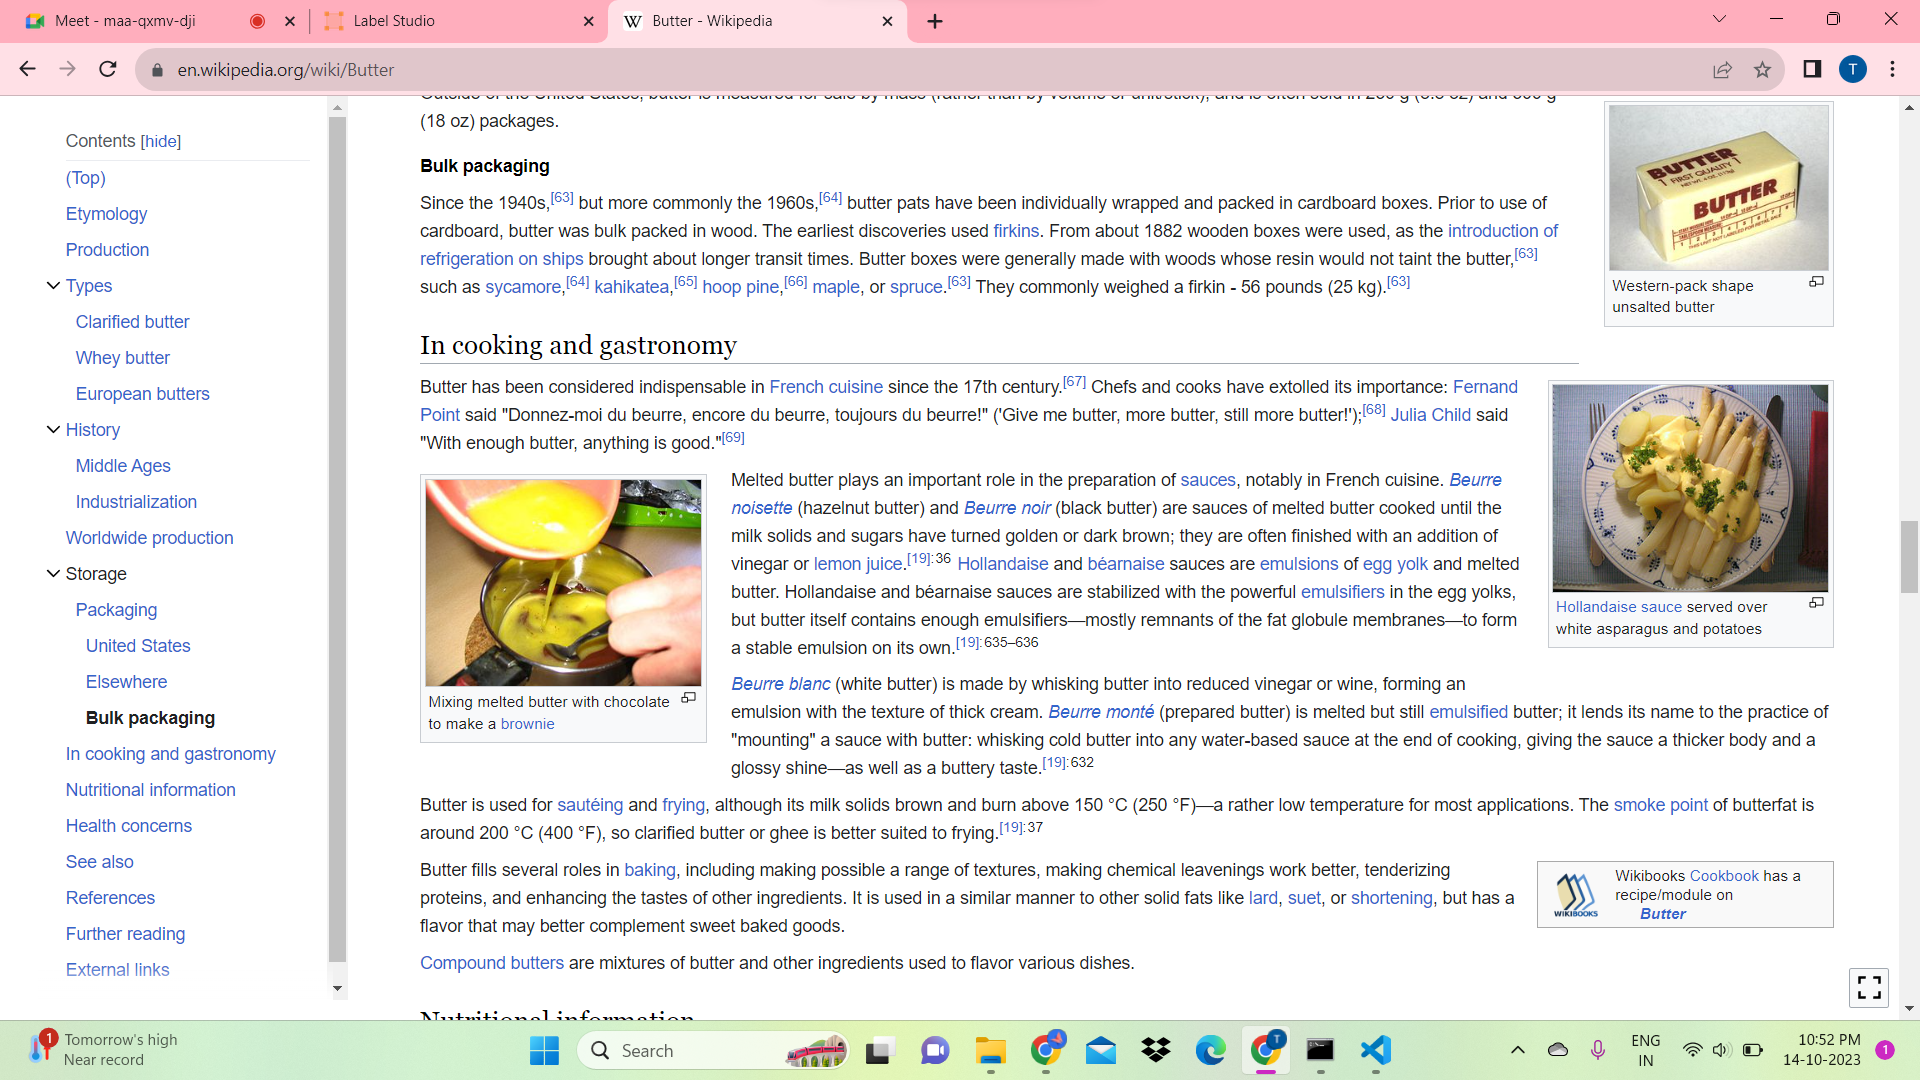Image: (1540, 373, 1842, 606), (412, 466, 708, 692), (1599, 99, 1832, 276)
Paragraph: (403, 781, 1866, 979), (721, 460, 1532, 662), (403, 186, 1571, 302), (718, 673, 1844, 781), (403, 367, 1525, 455), (50, 738, 302, 979), (67, 414, 252, 552), (60, 557, 203, 695), (67, 308, 222, 406), (421, 321, 766, 362), (58, 164, 175, 276), (63, 695, 237, 736), (412, 147, 572, 186), (50, 123, 196, 155)
